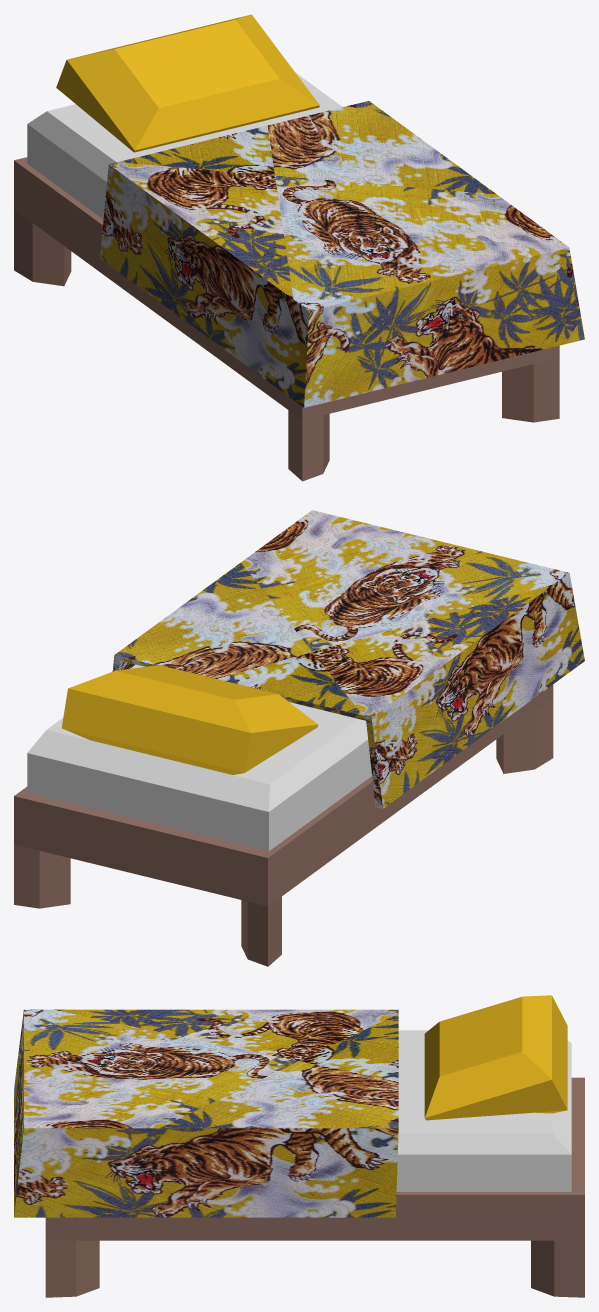
The model's file is Bed_Origin_Fixed.fbx.
3 renders of one model, top to bottom at view 1: azimuth 30°, elevation 25°; view 2: azimuth 150°, elevation 25°; view 3: azimuth 270°, elevation 25°, orthographic. The views are drawn at different scales.
Parts seen in each view (by area): view 1: Plane.016; view 2: Plane.016; view 3: Plane.016.
Part boxes in pixels (x1,y1,x2,y2): Plane.016: (14, 14, 584, 481); Plane.016: (14, 510, 584, 966); Plane.016: (14, 995, 584, 1297).
Size of the model in its own units: 753 by 588 by 1418.
